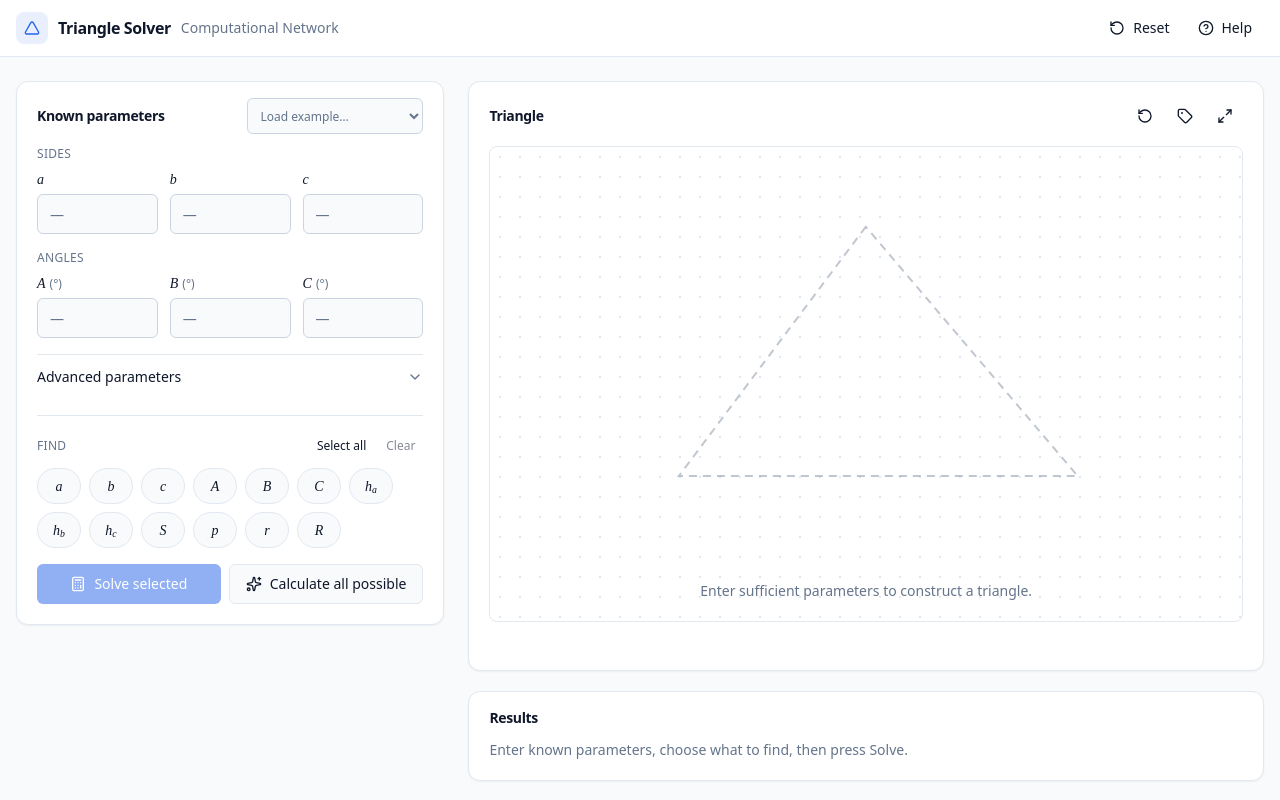
it: App › shows contextual validation and blocks solving invalid input
Click the button "S": coordinates (163, 530) [141,512,185,548]
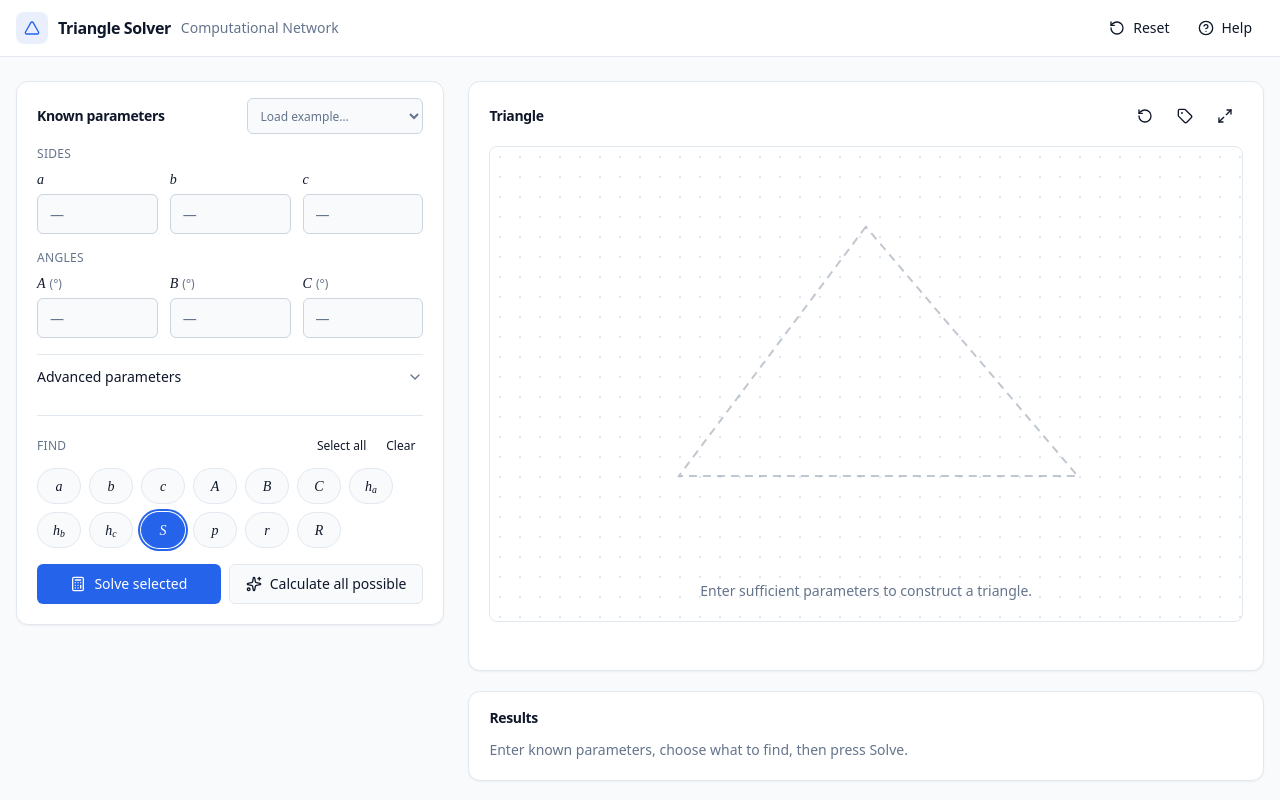
In the field with id "input-a": coordinates (97, 214) [37,194,158,234], type "-2"
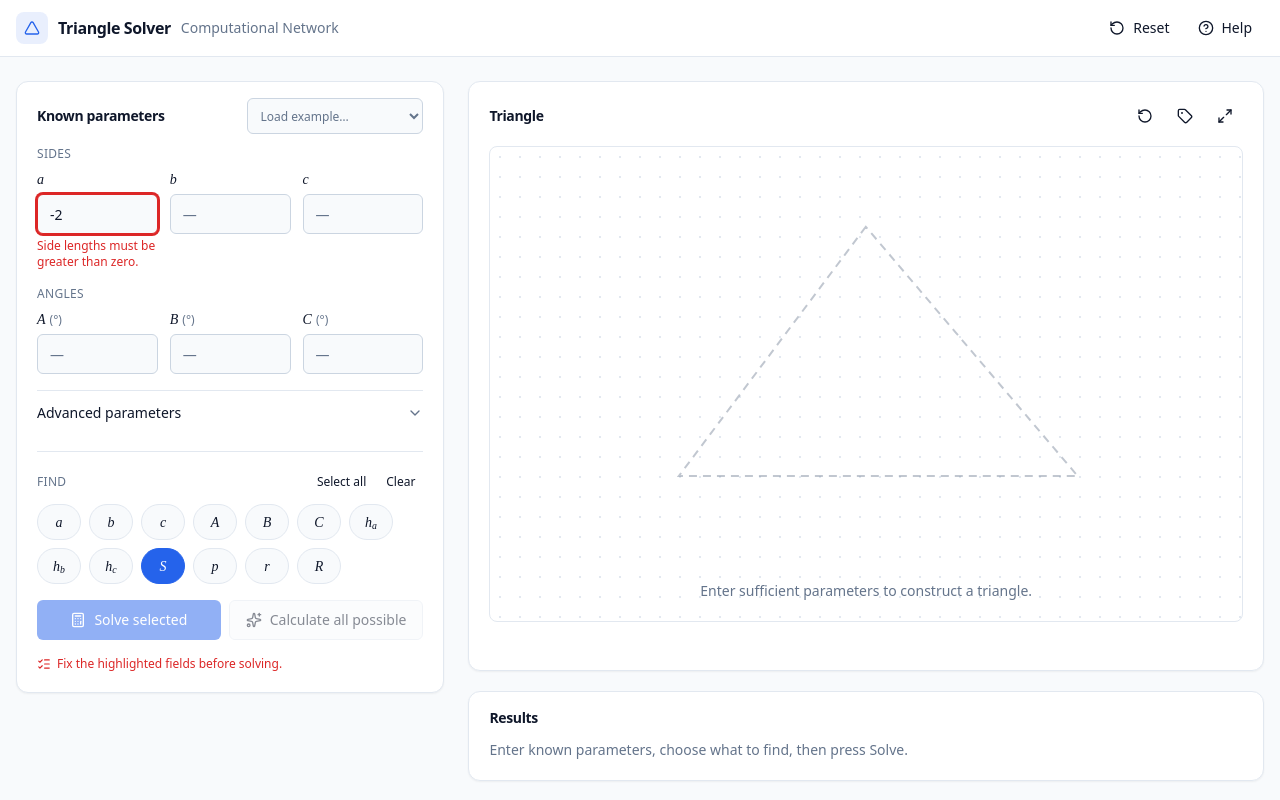
expect the text "Side lengths must be greater than zero." is shown: met, box [37,238,158,270]
expect the button "Solve selected" is disabled: met, box [37,600,221,640]
In the field with id "input-A": coordinates (97, 354) [37,334,158,374], type "190"
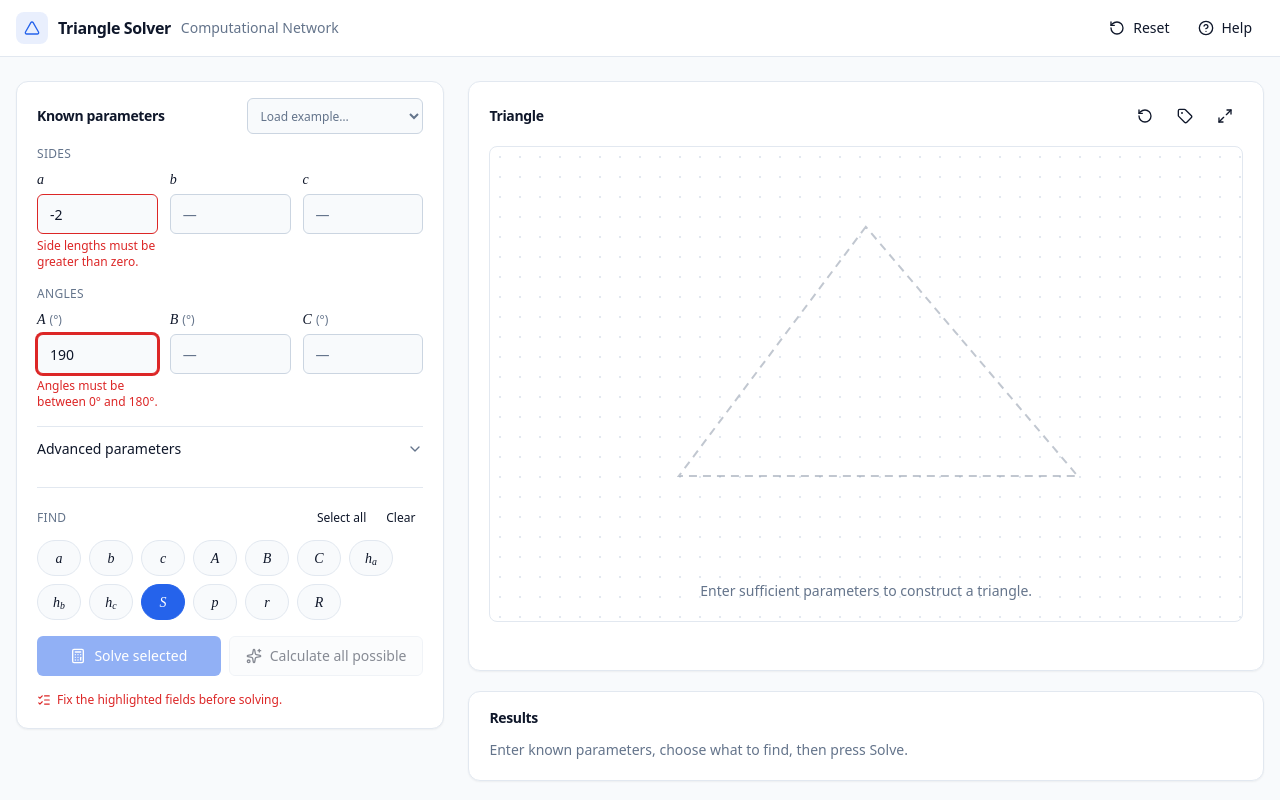
expect the text "Angles must be between 0° and 180°." is shown: met, box [37,378,158,410]
Replace the text in the field with id "input-a" with "2": coordinates (97, 214) [37,194,158,234]
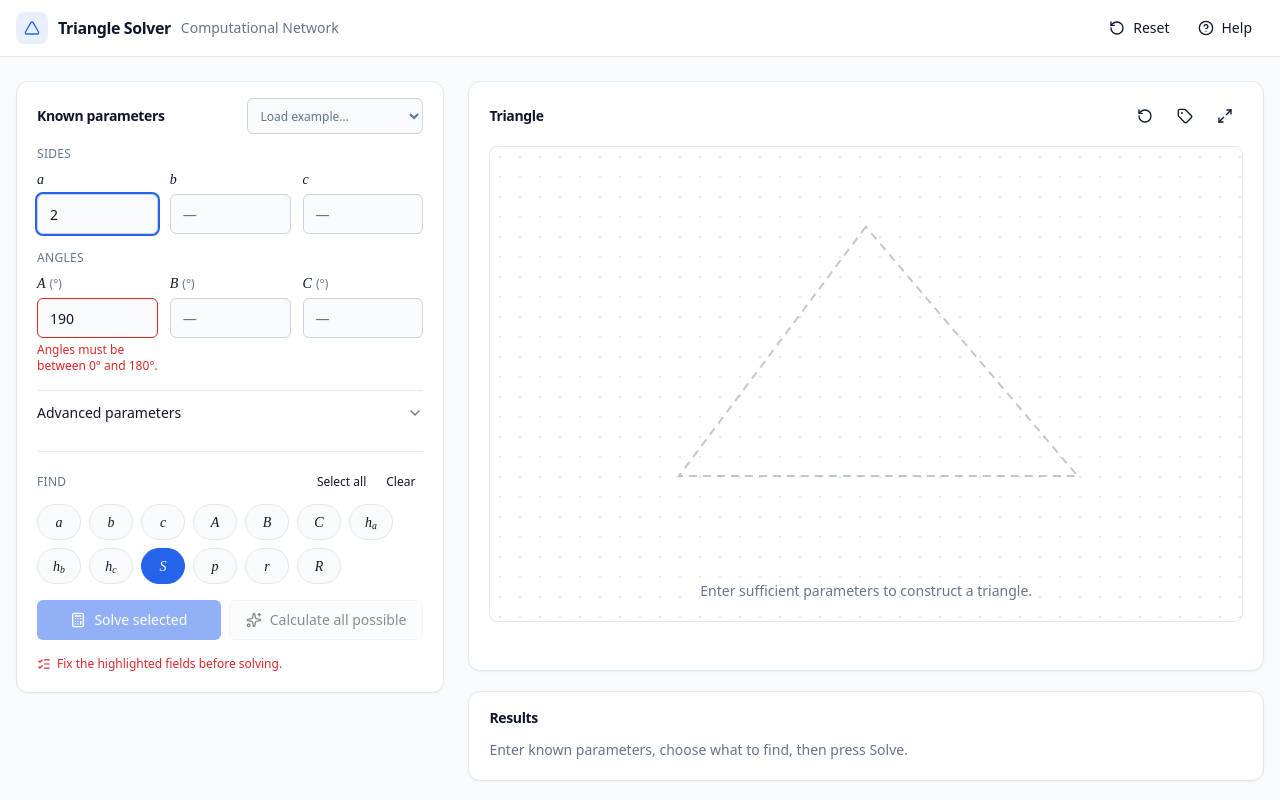
Clear the field with id "input-A": coordinates (97, 318) [37,298,158,338]
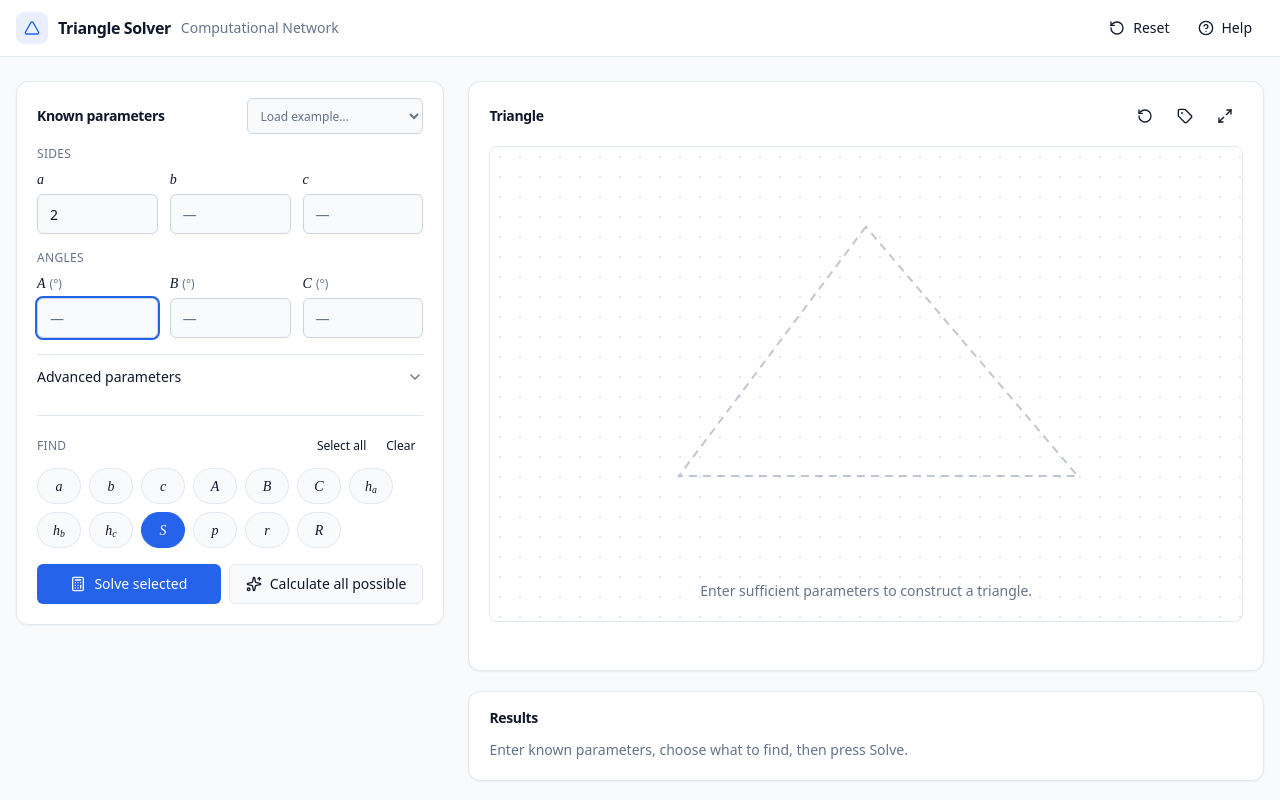
expect the button "Solve selected" is enabled: met, box [37,564,221,604]
